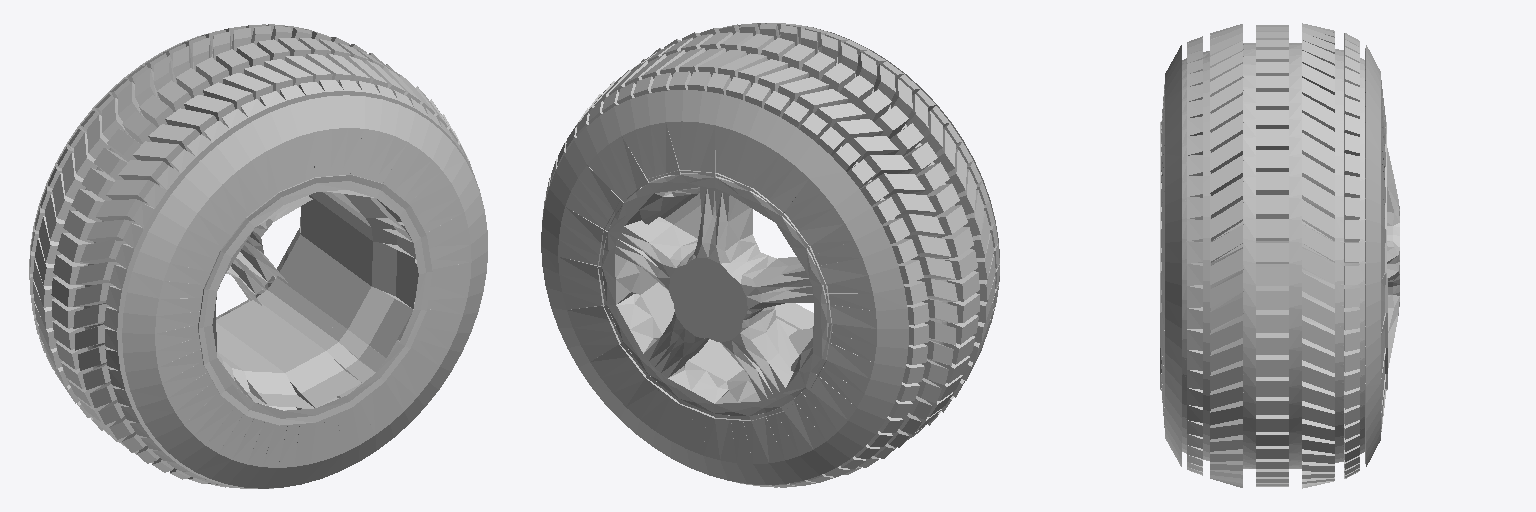
File: wheelNormalized.obj
3 views of the same model, side by side, from view 1: azimuth 30°, elevation 25°; view 2: azimuth 150°, elevation 25°; view 3: azimuth 270°, elevation 25° (orthographic).
Parts seen in each view (by area): view 1: objdefault; view 2: objdefault; view 3: objdefault.
Part boxes in pixels (left/top/right/bottom): objdefault: left=29, top=24, right=487, bottom=488; objdefault: left=541, top=23, right=999, bottom=487; objdefault: left=1160, top=23, right=1399, bottom=488.
Size of the model in its own units: 6.64 by 6.64 by 3.43.